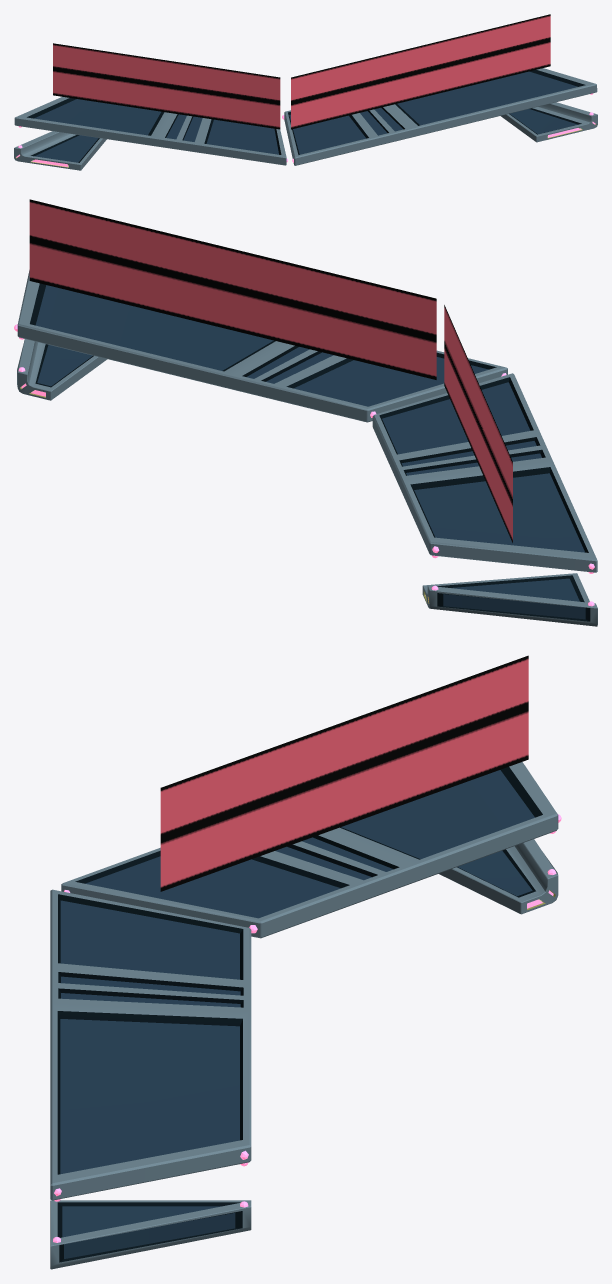
File: museum_bench.fbx
The picture shows the model from 3 angles, top to bottom: view 1: azimuth 30°, elevation 25°; view 2: azimuth 150°, elevation 25°; view 3: azimuth 270°, elevation 25°; orthographic projection. The views are drawn at different scales.
Visible parts, largest first — view 1: mesh_bench_01, mesh_bench_03, mesh_bench_02, mesh_bench_04; view 2: mesh_bench_01, mesh_bench_04, mesh_bench_03, mesh_bench_02; view 3: mesh_bench_03, mesh_bench_02, mesh_bench_04.
Part boxes in pixels (x1=…): mesh_bench_01: x1=291, y1=14, x2=550, y2=129; mesh_bench_03: x1=282, y1=68, x2=597, y2=165; mesh_bench_02: x1=53, y1=43, x2=280, y2=129; mesh_bench_04: x1=14, y1=96, x2=287, y2=170; mesh_bench_01: x1=29, y1=199, x2=436, y2=379; mesh_bench_04: x1=372, y1=373, x2=597, y2=626; mesh_bench_03: x1=14, y1=270, x2=507, y2=422; mesh_bench_02: x1=444, y1=305, x2=512, y2=542; mesh_bench_03: x1=50, y1=889, x2=251, y2=1269; mesh_bench_02: x1=160, y1=655, x2=528, y2=891; mesh_bench_04: x1=61, y1=762, x2=561, y2=938.
Bounding box in the file's own units: 6.35 × 1.29 × 2.98.
